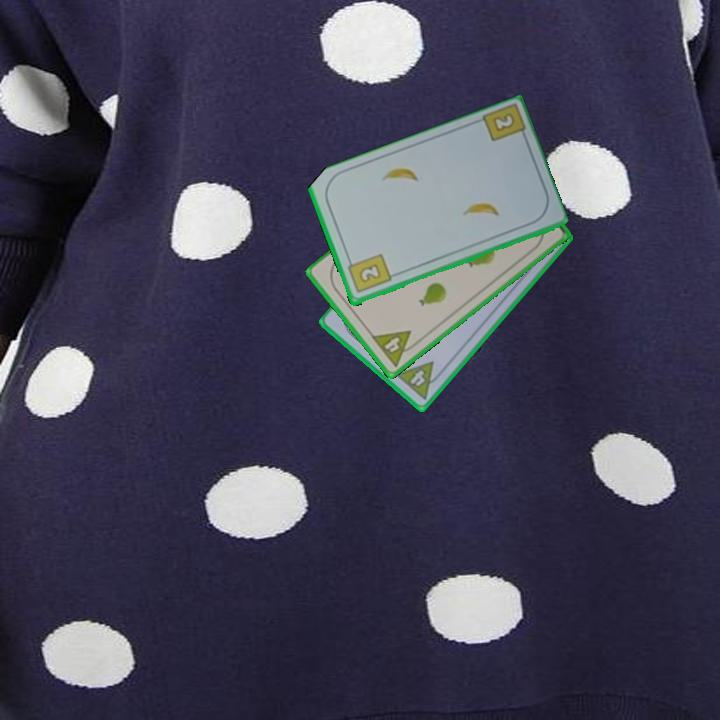2b: (477, 102, 530, 145), (344, 251, 394, 296)
4p: (392, 358, 447, 403), (368, 327, 422, 370)
